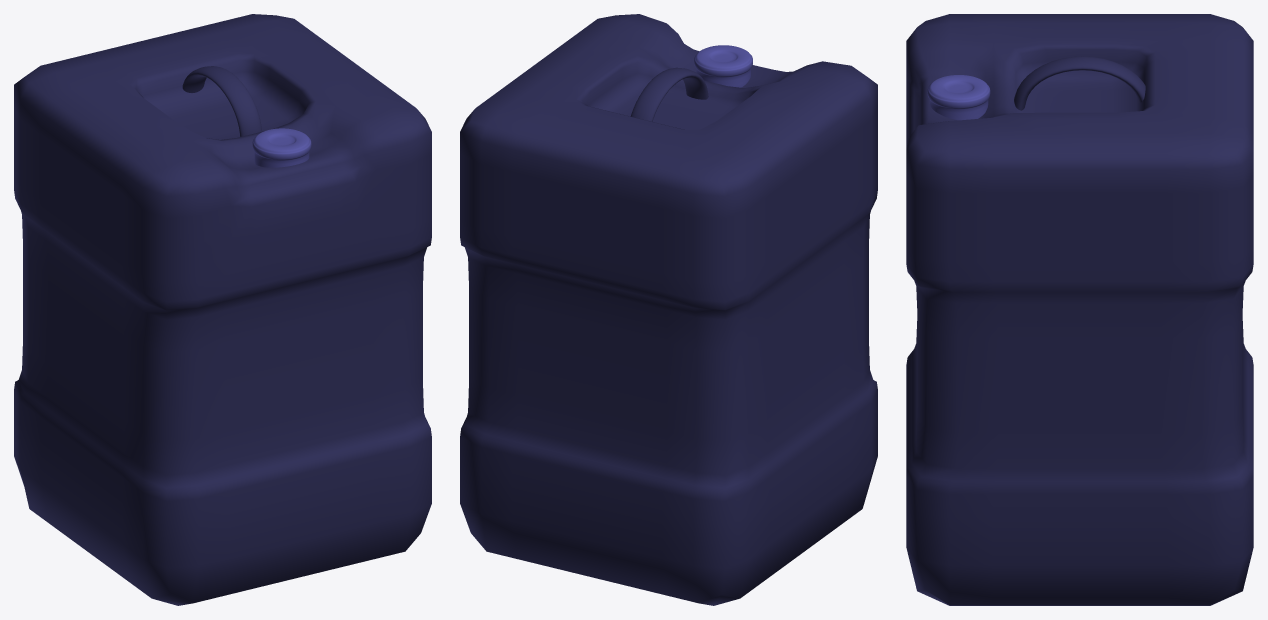
The model's file is WaterBucket.fbx.
3 views of the same model, side by side, from view 1: azimuth 30°, elevation 25°; view 2: azimuth 150°, elevation 25°; view 3: azimuth 270°, elevation 25° (orthographic). The views are drawn at different scales.
Parts seen in each view (by area): view 1: polySurface1; view 2: polySurface1; view 3: polySurface1.
Boxes of the visible parts, bbox=[...] form: polySurface1: bbox=[14, 14, 431, 605]; polySurface1: bbox=[460, 14, 877, 605]; polySurface1: bbox=[906, 14, 1253, 605].
Size of the model in its own units: 30 by 46.83 by 30.
